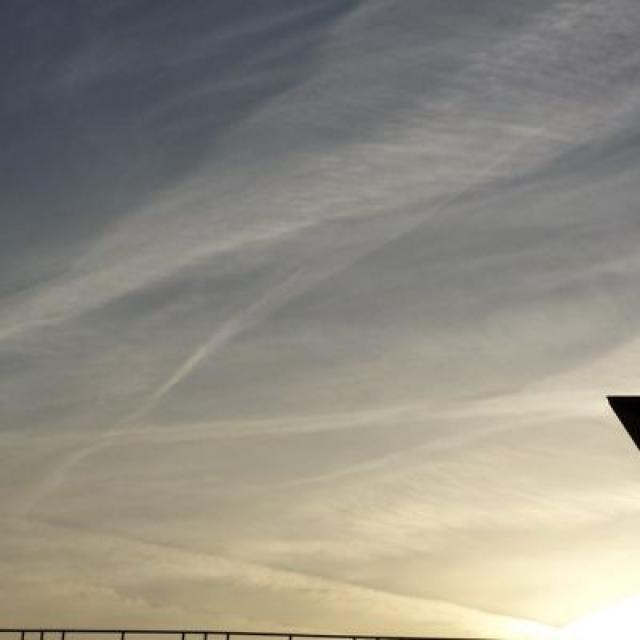Ct: (8, 52, 640, 350)
